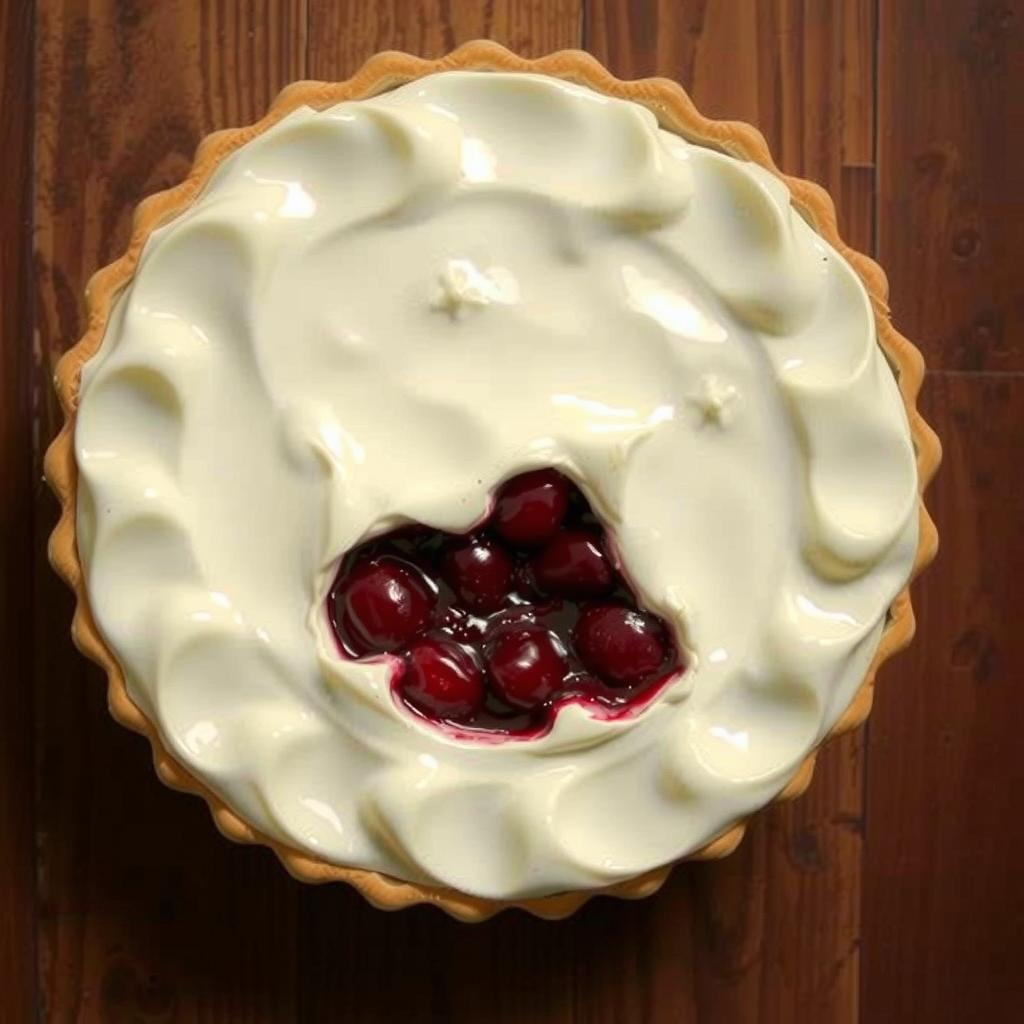pie: (30, 33, 950, 936)
